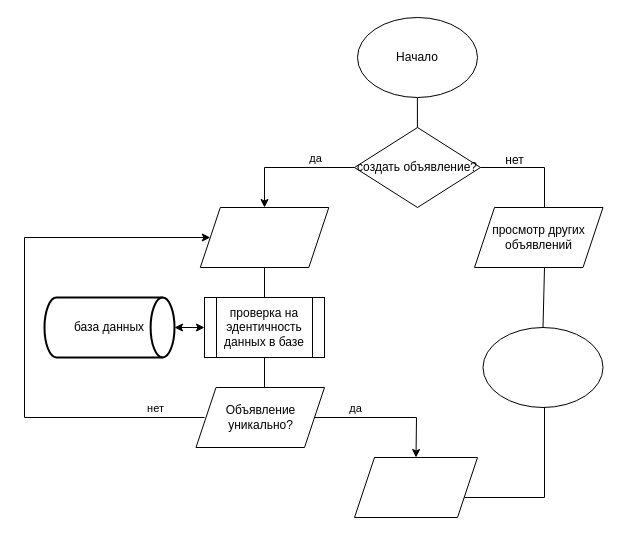
This 621x535 diagram has some shape labels left out. The centre of each missing label's shape, as x and y in pixels:
Ввод необходимых данных: point (264, 237)
конец: point (542, 367)
сообщение об успешном создании объявления: point (416, 487)
